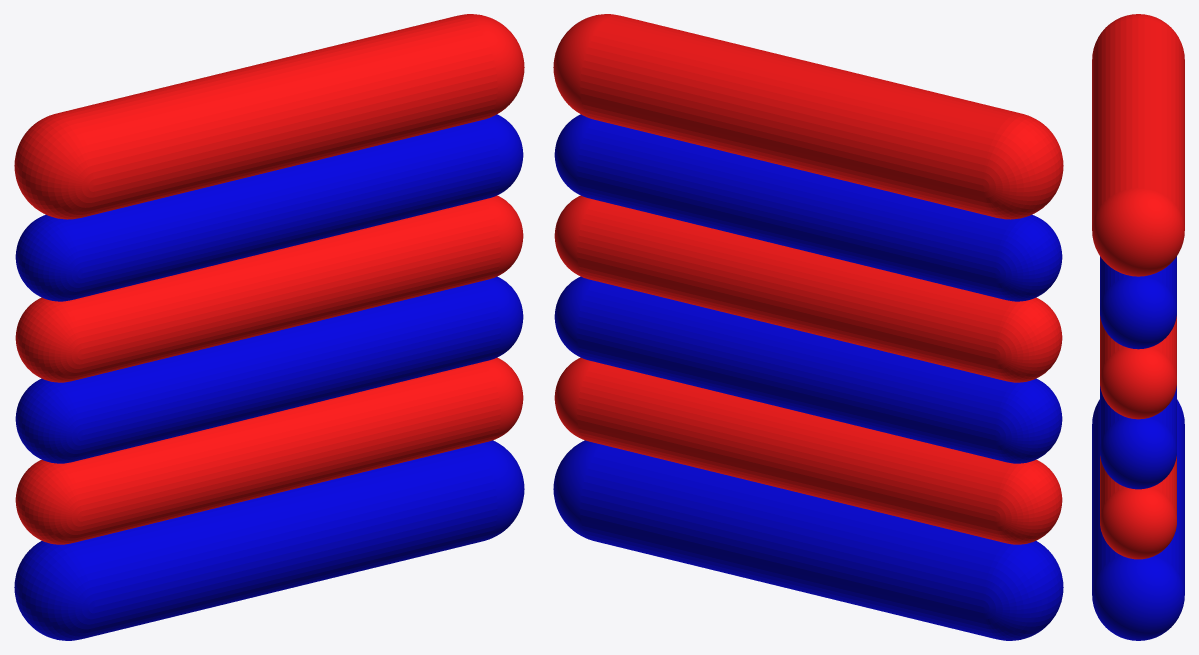
The picture shows the model from 3 angles, left to right: view 1: azimuth 30°, elevation 25°; view 2: azimuth 150°, elevation 25°; view 3: azimuth 270°, elevation 25°; orthographic projection. The views are drawn at different scales.
Visible parts, largest first — view 1: Cylinder, Cylinder.005, Cylinder.004, Cylinder.003, Cylinder.002, Cylinder.001, Sphere, Sphere.010, Sphere.002, Sphere.004, Sphere.006, Sphere.008 (+6 smaller); view 2: Cylinder, Cylinder.005, Cylinder.004, Cylinder.003, Cylinder.002, Cylinder.001, Sphere, Sphere.010, Sphere.002, Sphere.004, Sphere.006, Sphere.008 (+6 smaller); view 3: Cylinder, Sphere.001, Sphere.011, Sphere.003, Sphere.007, Sphere.005, Sphere.009, Cylinder.005, Cylinder.002, Cylinder.003, Cylinder.004, Cylinder.001 (+1 smaller).
Part boxes in pixels (left/top/right/bottom): Cylinder: left=57, top=15, right=497, bottom=217; Cylinder.005: left=73, top=445, right=497, bottom=638; Cylinder.004: left=65, top=362, right=500, bottom=542; Cylinder.003: left=65, top=281, right=500, bottom=461; Cylinder.002: left=65, top=200, right=500, bottom=380; Cylinder.001: left=64, top=119, right=500, bottom=299; Sphere: left=14, top=113, right=94, bottom=219; Sphere.010: left=14, top=541, right=94, bottom=640; Sphere.002: left=15, top=214, right=82, bottom=301; Sphere.004: left=15, top=297, right=82, bottom=382; Sphere.006: left=15, top=378, right=82, bottom=463; Sphere.008: left=15, top=459, right=82, bottom=544; Cylinder: left=580, top=15, right=1020, bottom=217; Cylinder.005: left=580, top=445, right=1004, bottom=638; Cylinder.004: left=577, top=362, right=1012, bottom=542; Cylinder.003: left=577, top=281, right=1012, bottom=461; Cylinder.002: left=577, top=200, right=1012, bottom=380; Cylinder.001: left=577, top=119, right=1013, bottom=299; Sphere: left=983, top=113, right=1063, bottom=219; Sphere.010: left=983, top=541, right=1063, bottom=640; Sphere.002: left=995, top=214, right=1062, bottom=301; Sphere.004: left=995, top=297, right=1062, bottom=382; Sphere.006: left=995, top=378, right=1062, bottom=463; Sphere.008: left=995, top=459, right=1062, bottom=544; Cylinder: left=1092, top=18, right=1184, bottom=228; Sphere.001: left=1092, top=188, right=1184, bottom=276; Sphere.011: left=1092, top=555, right=1184, bottom=640; Sphere.003: left=1100, top=276, right=1176, bottom=349; Sphere.007: left=1100, top=417, right=1176, bottom=489; Sphere.005: left=1100, top=347, right=1176, bottom=419; Sphere.009: left=1100, top=487, right=1176, bottom=559; Cylinder.005: left=1092, top=402, right=1184, bottom=593; Cylinder.002: left=1100, top=316, right=1176, bottom=375; Cylinder.003: left=1100, top=386, right=1176, bottom=445; Cylinder.004: left=1100, top=456, right=1176, bottom=515; Cylinder.001: left=1100, top=256, right=1176, bottom=305.
Bounding box in the file's own units: 1.6 × 1.6 × 0.3.
